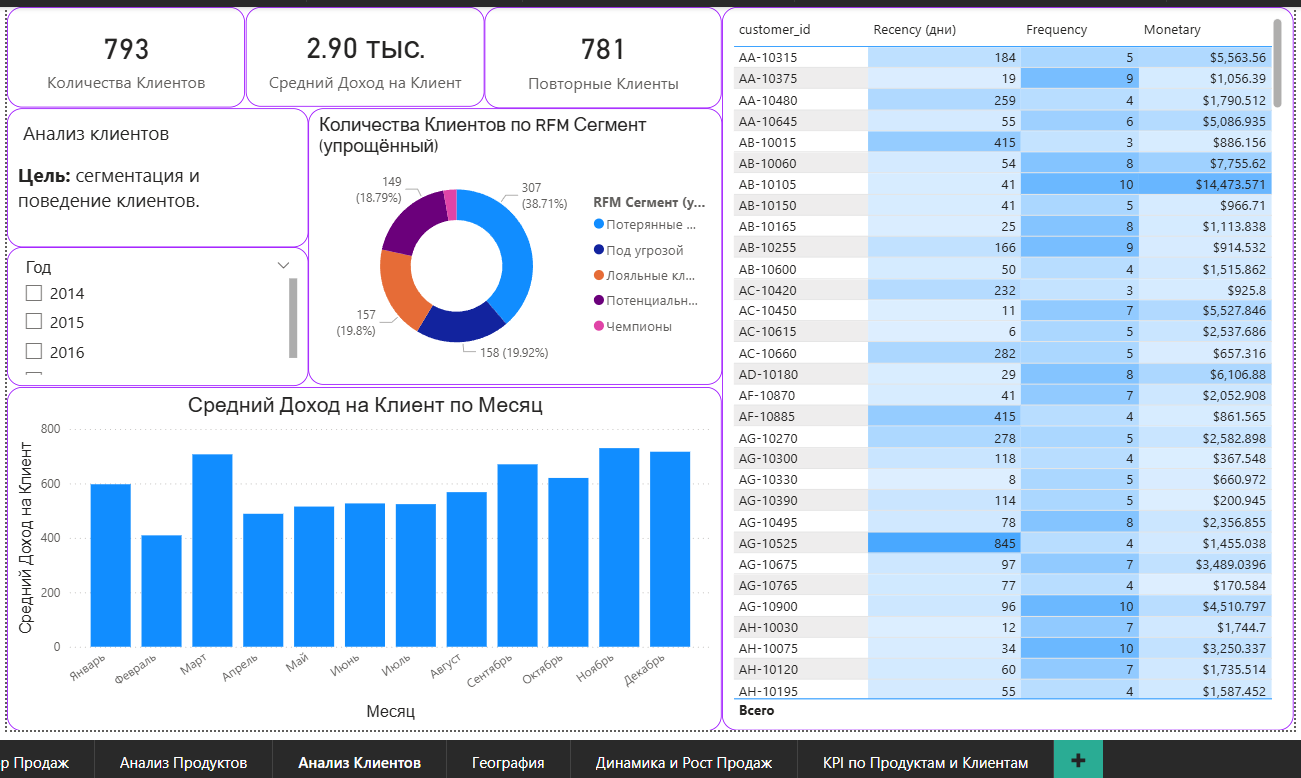

What the dashboard file says about the page in this screenshot:
{"tool":"powerbi","page":{"name":"Анализ Клиентов","canvas":[1280,720],"ordinal":2},"visuals":[{"type":"card","fields":{"Values":["Meas.Количества Клиентов"]},"box":[0,0,237,99.9],"z":0},{"type":"donutChart","fields":{"Category":["RFM Table.RFM Сегмент (упрощённый)"],"Y":["Meas.Количества Клиентов"]},"box":[299.8,100.8,411.8,274.9],"z":1000},{"type":"tableEx","fields":{"Values":["RFM Table.customer_id","RFM Table.Recency (дни)","RFM Table.Frequency","RFM Table.Monetary"]},"box":[711.5,0,568.5,720.3],"z":2000},{"type":"card","fields":{"Values":["Meas.Повторные Клиенты"]},"box":[475.2,0,236.4,100.8],"z":3000},{"type":"card","fields":{"Values":["Meas.Средний Доход на Клиент"]},"box":[237.6,0,237.6,99.5],"z":4000},{"type":"lineClusteredColumnComboChart","fields":{"Category":["Ready - Superstore.order_date.Изменение.Иерархия дат.Месяц"],"Y":["Meas.Средний Доход на Клиент"]},"box":[0,378.2,711.5,342.1],"z":5000},{"type":"slicer","fields":{"Values":["Ready - Superstore.order_date.Изменение.Иерархия дат.Год"]},"box":[0,238.9,299.9,138.4],"z":6000},{"type":"textbox","box":[0,100.5,299.9,138.4],"z":7000}]}

Visuals, with their boxes on the page's 1280x720 design canvas (x1, y1, x2, y2). These are canvas units, not pixel positions in the 1301x778 screenshot, which may show the page scaled, cropped or inside an application window:
card - Meas.Количества Клиентов: [x1=0, y1=0, x2=237, y2=100]
donutChart - RFM Table.RFM Сегмент (упрощённый) x Meas.Количества Клиентов: [x1=300, y1=101, x2=712, y2=376]
tableEx - RFM Table.customer_id x RFM Table.Recency (дни): [x1=712, y1=0, x2=1280, y2=720]
card - Meas.Повторные Клиенты: [x1=475, y1=0, x2=712, y2=101]
card - Meas.Средний Доход на Клиент: [x1=238, y1=0, x2=475, y2=100]
lineClusteredColumnComboChart - Ready - Superstore.order_date.Изменение.Иерархия дат.Месяц x Meas.Средний Доход на Клиент: [x1=0, y1=378, x2=712, y2=720]
slicer - Ready - Superstore.order_date.Изменение.Иерархия дат.Год: [x1=0, y1=239, x2=300, y2=377]
textbox: [x1=0, y1=100, x2=300, y2=239]
